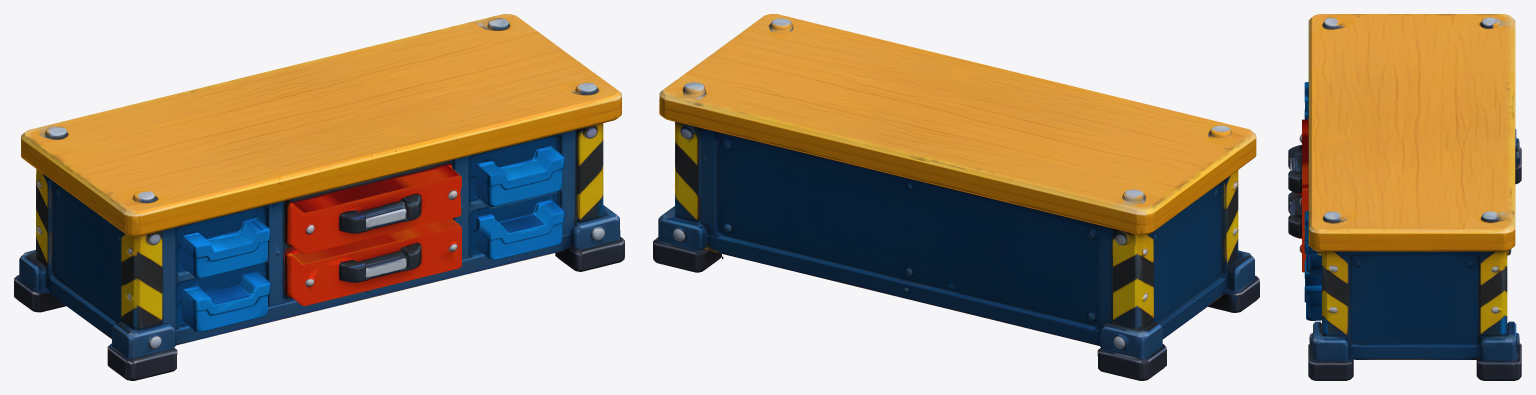
File: TableOpen.fbx
3 views of the same model, side by side, from view 1: azimuth 30°, elevation 25°; view 2: azimuth 150°, elevation 25°; view 3: azimuth 270°, elevation 25° (orthographic). The views are drawn at different scales.
Visible parts, largest first — view 1: node_0; view 2: node_0; view 3: node_0.
Boxes of the visible parts, x1,y1,x2,y2 form: node_0: (14,14,624,380); node_0: (653,14,1259,380); node_0: (1288,14,1521,380).
Bounding box in the file's own units: 107 × 35.25 × 48.25.
1 material, 1 textured.
